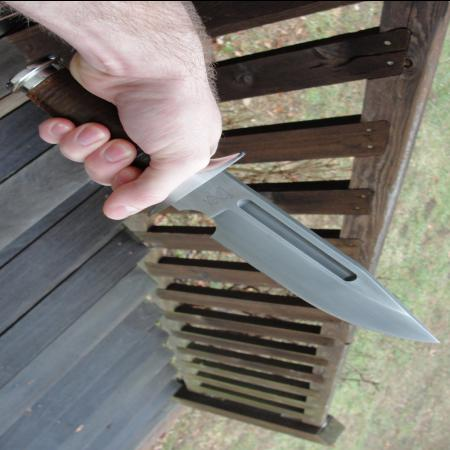long weapon: (77, 122, 447, 350)
